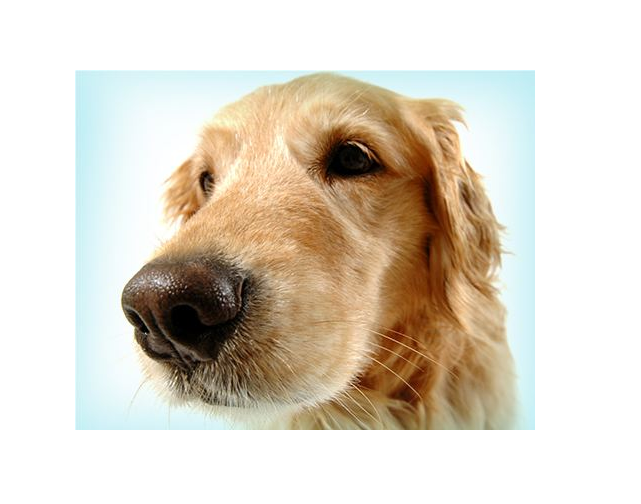nose: (111, 263, 248, 373)
